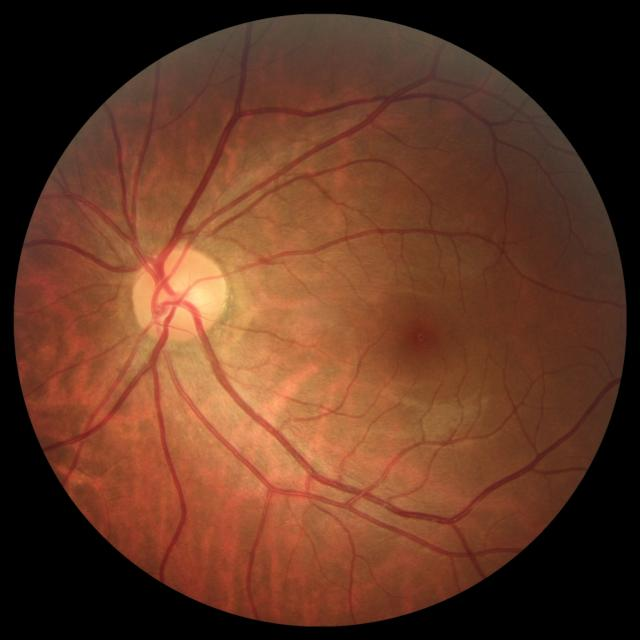OC: (160, 276, 206, 322)
OD: (133, 246, 228, 342)
